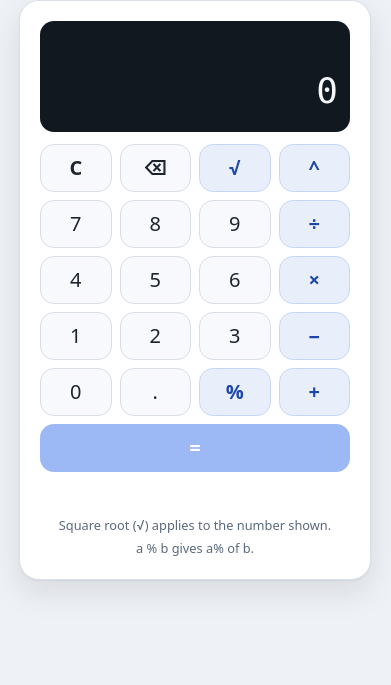
Test case: Calculator › explains that the service is unreachable
Click the button named "One" at (76, 336), box [40, 312, 112, 360]
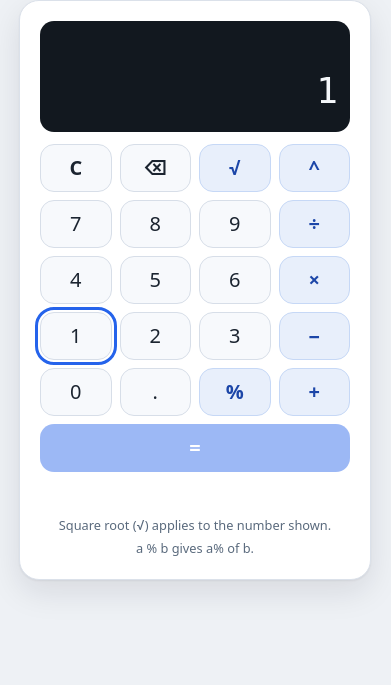
Click the button named "Add" at (314, 392), box [278, 368, 350, 416]
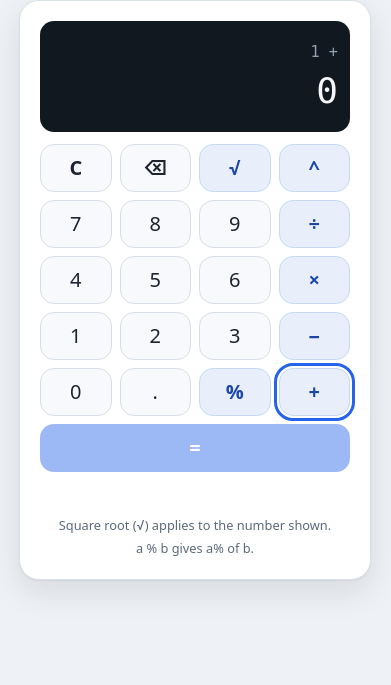
Click the button named "One" at (76, 336), box [40, 312, 112, 360]
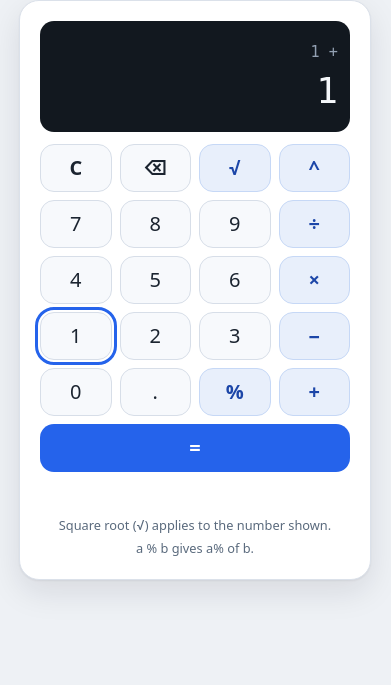
Click the button named "Equals" at (195, 448), box [40, 424, 350, 472]
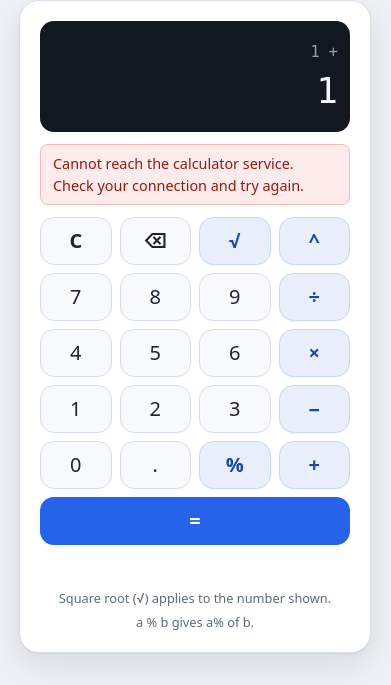
expect the message shows "Cannot reach the calculator service.": met, box [53, 154, 304, 195]
